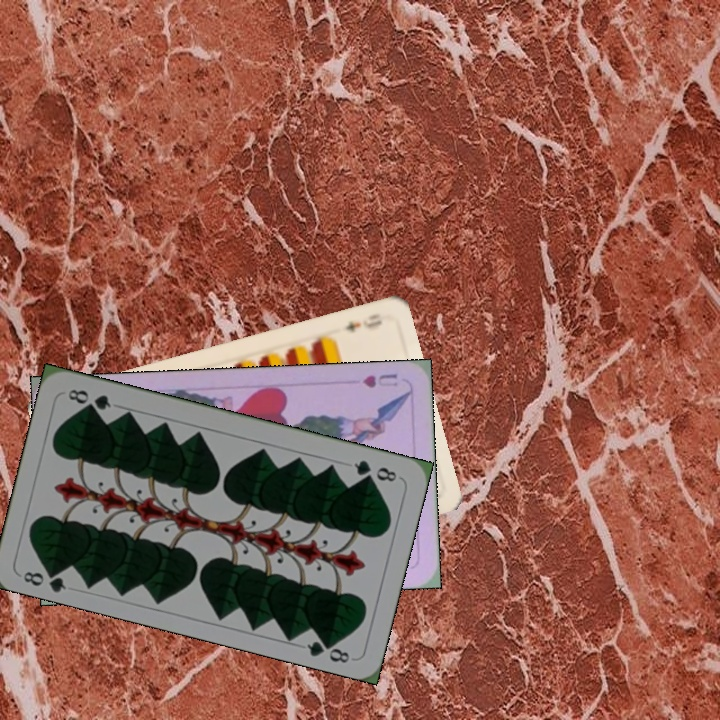E9: (341, 316, 385, 336)
G8: (19, 562, 69, 595), (349, 456, 400, 485)
HU: (358, 370, 400, 390)
